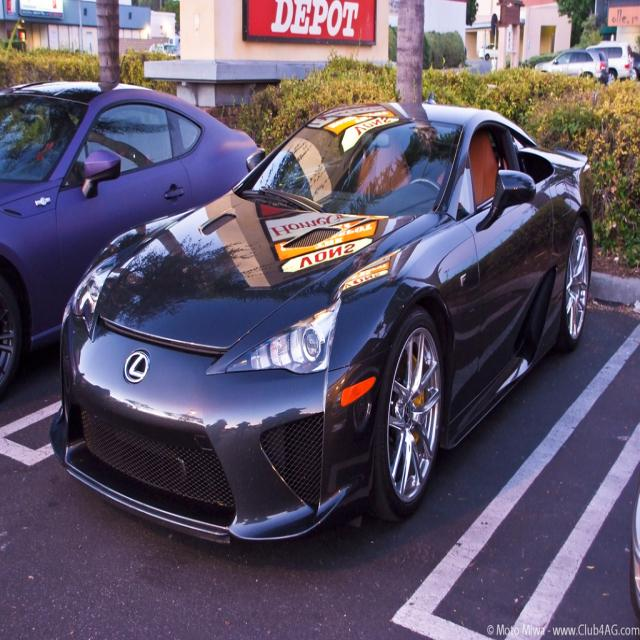car: (48, 93, 595, 551)
